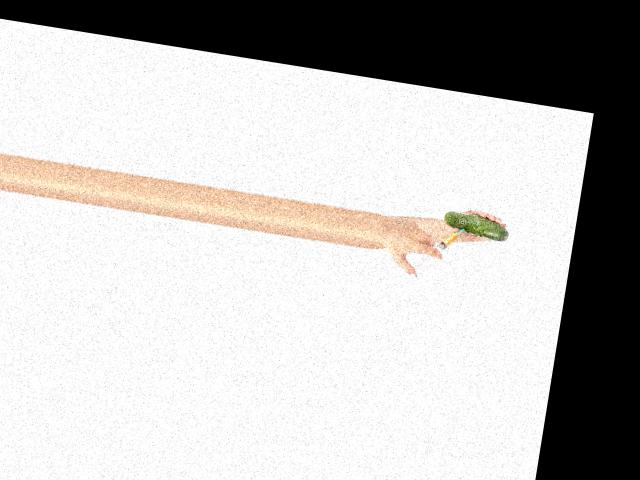cucumber: (442, 210, 511, 242)
